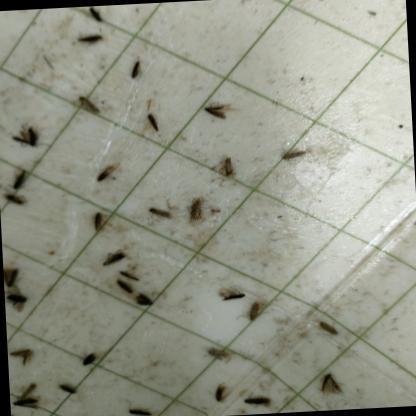prays_oleae: (182, 192, 212, 230), (316, 362, 344, 400), (205, 334, 236, 367), (212, 149, 238, 185), (316, 309, 338, 347), (148, 195, 174, 227), (0, 186, 33, 211), (76, 22, 103, 52), (144, 108, 166, 144), (86, 208, 112, 237), (10, 388, 40, 412), (202, 96, 229, 122), (210, 378, 235, 406), (78, 94, 102, 123), (244, 296, 268, 325), (12, 131, 38, 155), (8, 342, 34, 366), (242, 388, 269, 410), (57, 379, 81, 401), (219, 289, 245, 309), (84, 5, 109, 25), (282, 149, 308, 168), (3, 262, 22, 288), (94, 166, 119, 184), (126, 61, 145, 84), (116, 276, 135, 298), (126, 399, 150, 416), (4, 289, 30, 304), (102, 251, 127, 265)
